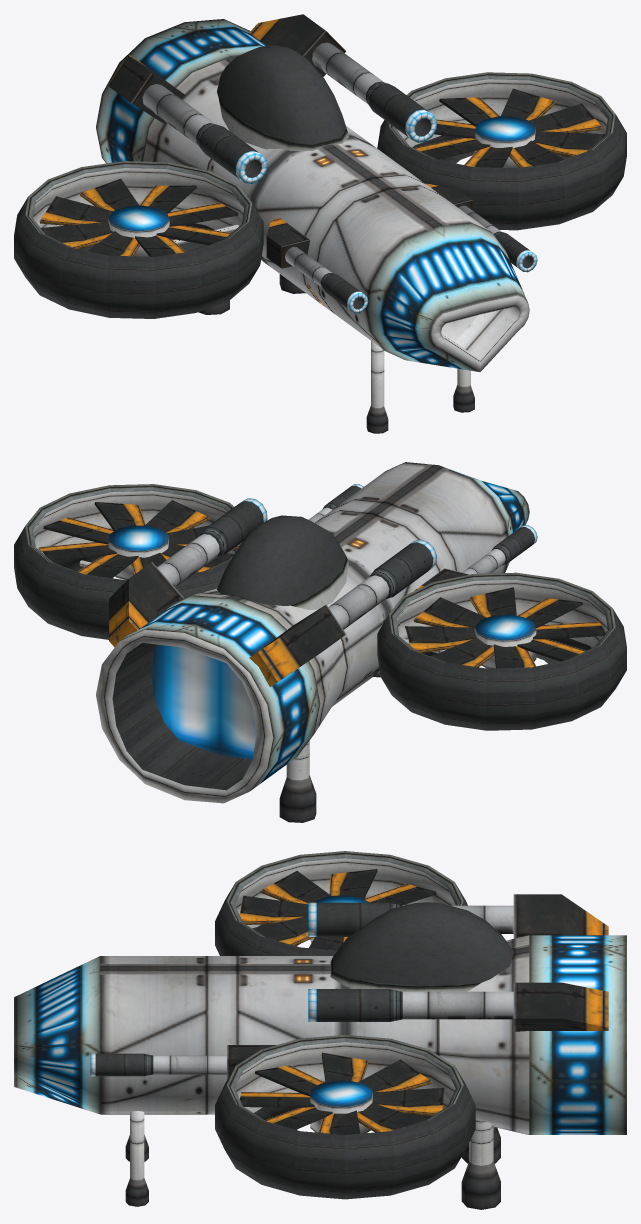
File: naveanimada-2.fbx
The picture shows the model from 3 angles, top to bottom: view 1: azimuth 30°, elevation 25°; view 2: azimuth 150°, elevation 25°; view 3: azimuth 270°, elevation 25°; orthographic projection. The views are drawn at different scales.
Parts seen in each view (by area): view 1: Cylinder, Cylinder.001, Cylinder.002, Cylinder.003; view 2: Cylinder, Cylinder.001, Cylinder.002, Cylinder.003; view 3: Cylinder, Cylinder.002, Cylinder.001, Cylinder.003.
Part boxes in pixels (x1,y1,x2,y2): Cylinder: (14, 14, 626, 371); Cylinder.001: (39, 178, 238, 256); Cylinder.002: (413, 88, 605, 168); Cylinder.003: (198, 274, 474, 433); Cylinder: (14, 462, 626, 803); Cylinder.001: (405, 587, 605, 668); Cylinder.002: (38, 500, 238, 579); Cylinder.003: (279, 672, 380, 822); Cylinder: (14, 851, 626, 1199); Cylinder.002: (240, 1052, 444, 1134); Cylinder.001: (239, 869, 436, 950); Cylinder.003: (125, 1111, 500, 1209).
Size of the model in its own units: 5.24 by 2.26 by 4.62.
